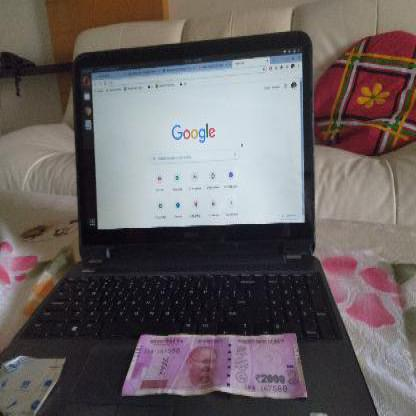New2000Front: (122, 332, 305, 396)
